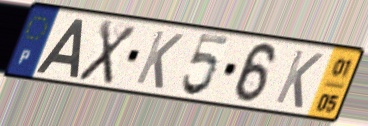5: (180, 31, 232, 98)
6: (232, 41, 280, 106)
A: (32, 17, 86, 79)
K: (132, 28, 186, 92), (271, 47, 325, 111)
X: (75, 18, 139, 87)
